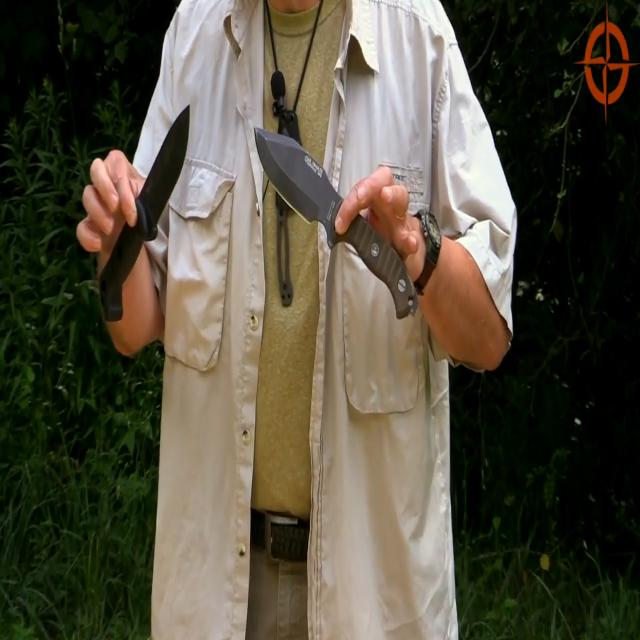knife: (254, 121, 420, 332), (92, 107, 200, 334)
